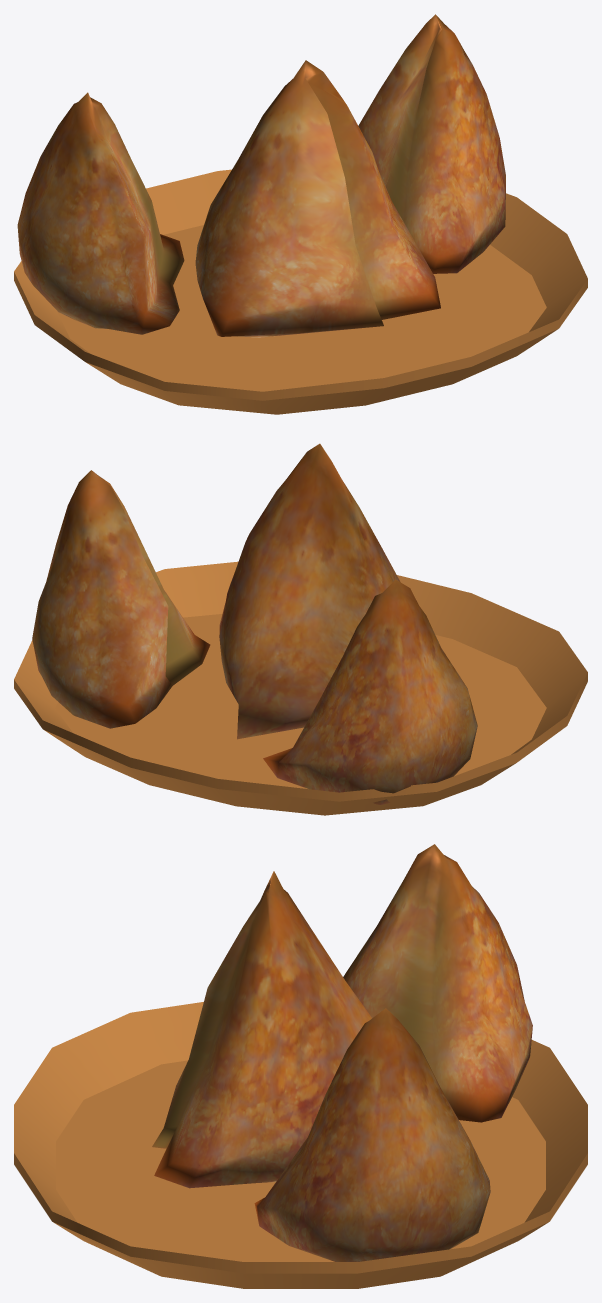
File: samosa.fbx
The picture shows the model from 3 angles, top to bottom: view 1: azimuth 30°, elevation 25°; view 2: azimuth 150°, elevation 25°; view 3: azimuth 270°, elevation 25°; orthographic projection. The views are drawn at different scales.
Parts seen in each view (by area): view 1: pCube5; view 2: pCube5; view 3: pCube5.
Part boxes in pixels (x1,y1,x2,y2): pCube5: (14,14,587,414); pCube5: (14,443,587,815); pCube5: (14,844,587,1288).
Size of the model in its own units: 9.94 by 5.26 by 9.06.
